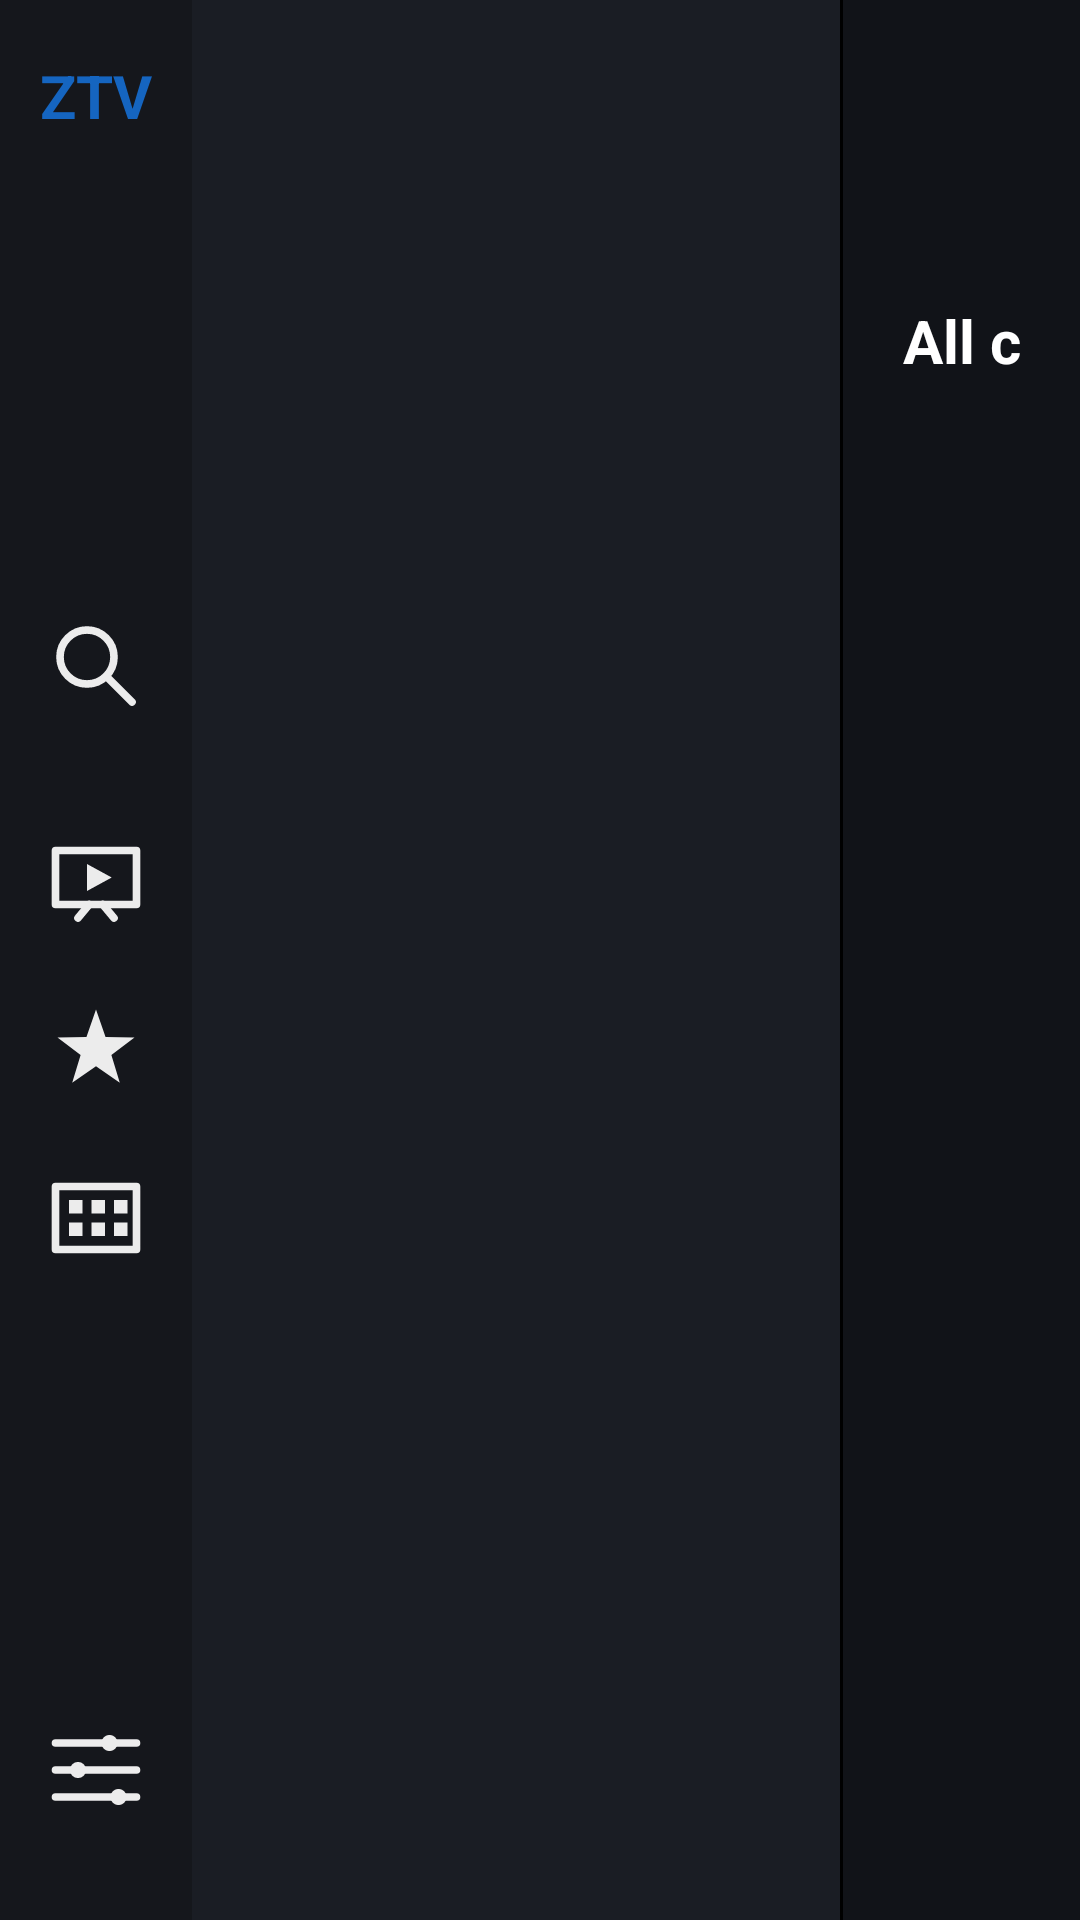

Icons on this 1080*1920 Android screen, each with the point to tap as point (x, y):
favorites: point (96, 1046)
live: point (96, 884)
search: point (96, 666)
settings: point (96, 1770)
tv guide: point (96, 1218)
